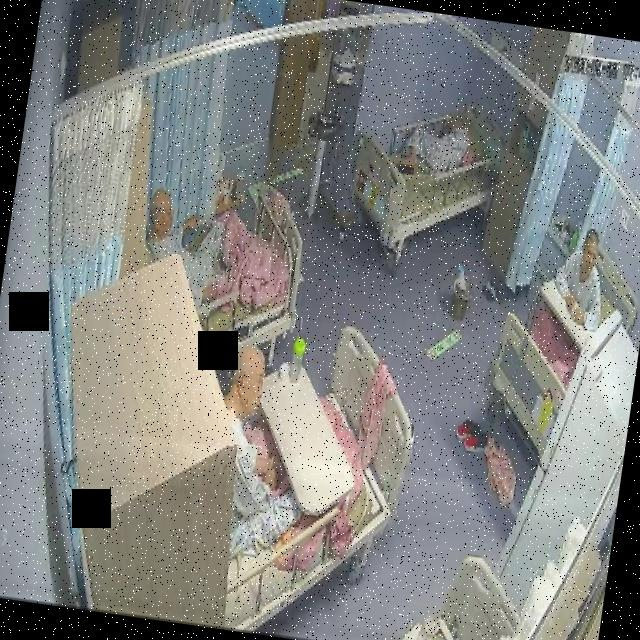bed: (210, 315, 426, 640), (477, 231, 640, 472), (162, 175, 312, 382), (343, 88, 504, 261)
lie: (394, 111, 475, 192)
patient: (201, 336, 326, 566), (136, 179, 240, 310), (547, 224, 615, 334), (394, 112, 476, 192)
sit: (199, 334, 325, 569), (135, 179, 241, 308), (548, 224, 614, 332)
